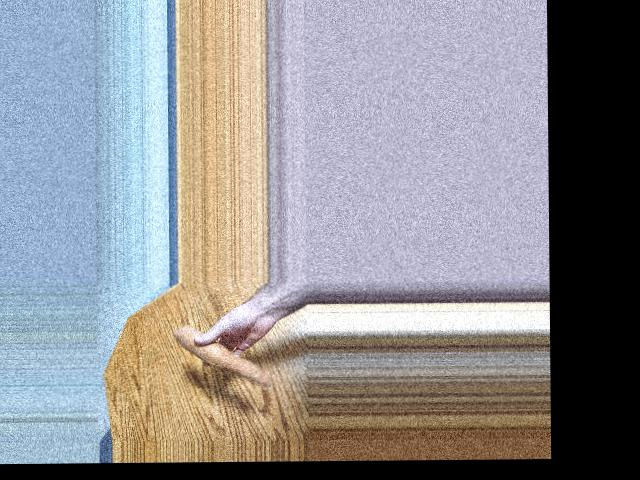sweet_potato: (163, 328, 270, 380)
